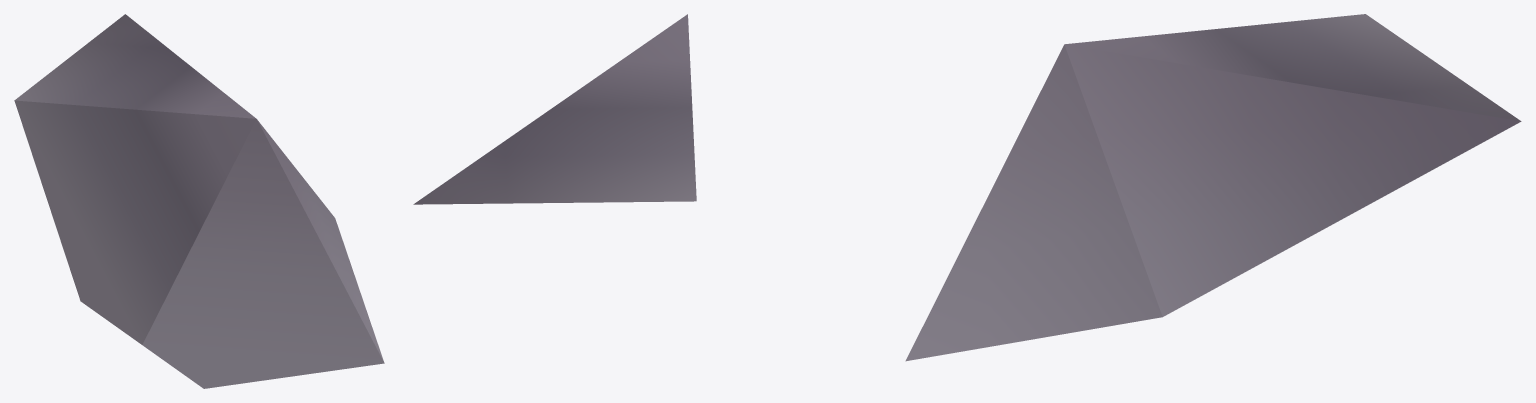
The picture shows the model from 3 angles, left to right: view 1: azimuth 30°, elevation 25°; view 2: azimuth 150°, elevation 25°; view 3: azimuth 270°, elevation 25°; orthographic projection. The views are drawn at different scales.
Size of the model in its own units: 0.5567 by 0.6212 by 0.9593.
1 material, 1 textured.
